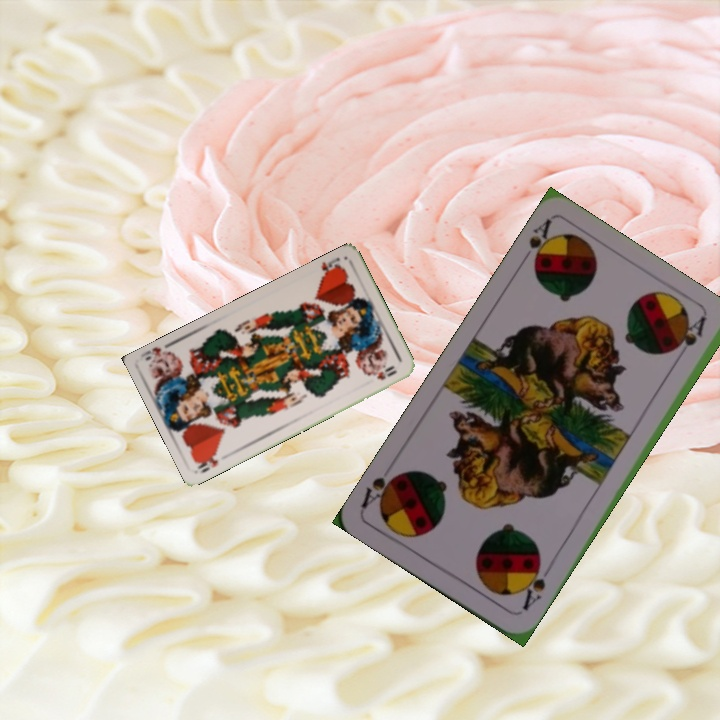HO: (317, 253, 346, 281), (192, 449, 220, 475)
SA: (524, 215, 560, 273), (518, 558, 549, 614)
